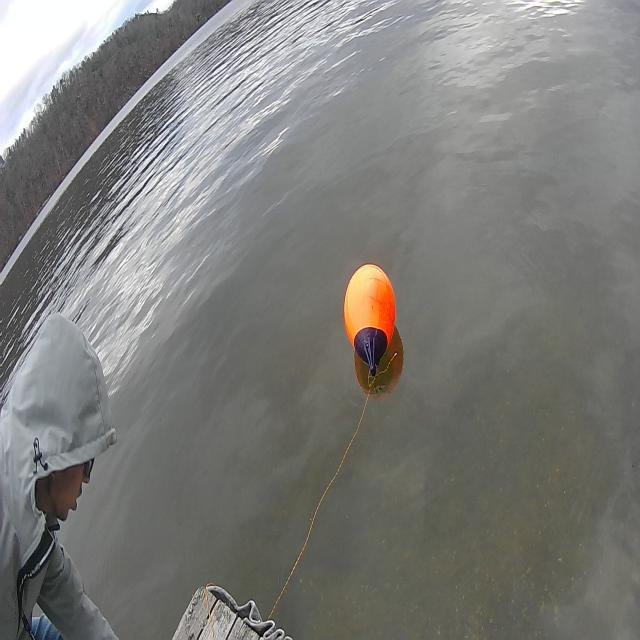Buoy: (342, 261, 399, 379)
